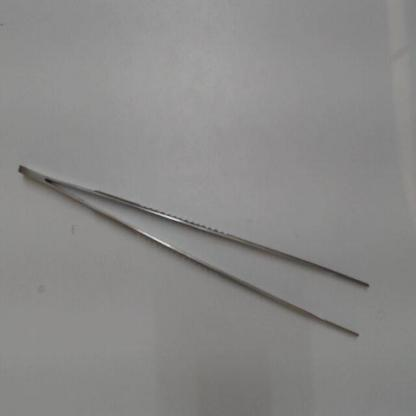DeBakey Dissector: (10, 137, 380, 352)
